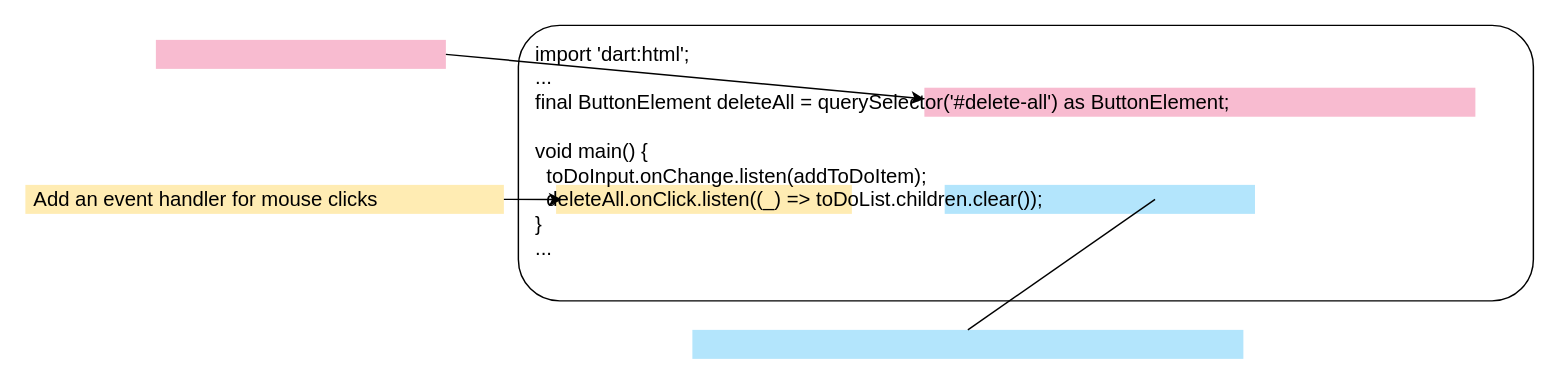
Some shapes in this 1559 by 384 pixel diagram are drawn without their labels. The shapes that lost their labels are listed below. From the top down, each one's centre as x and y in pixels, then its label:
At pixel 300 53: "Get the button element".
At pixel 967 343: "On click, remove all elements from the list".
